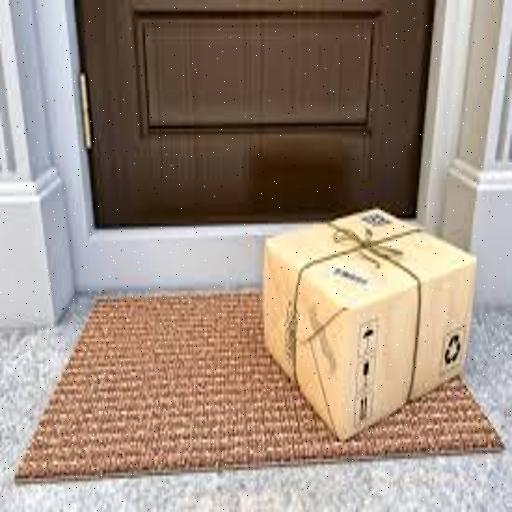Other: (258, 206, 483, 446)
